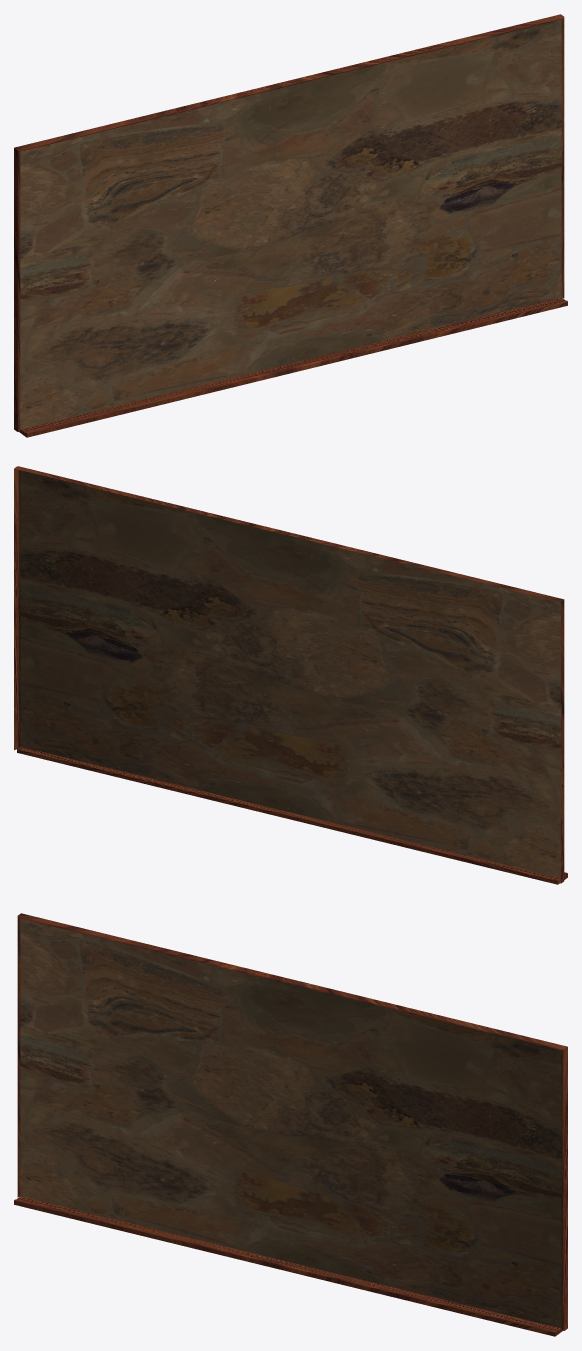
File: Blackboard.fbx
3 renders of one model, top to bottom at view 1: azimuth 30°, elevation 25°; view 2: azimuth 150°, elevation 25°; view 3: azimuth 330°, elevation 25°, orthographic.
Parts seen in each view (by area): view 1: Pizarron; view 2: Pizarron; view 3: Pizarron.
Part boxes in pixels (box(x1,y1,x2,y2)): Pizarron: box(14, 14, 567, 437); Pizarron: box(14, 466, 567, 884); Pizarron: box(14, 913, 567, 1336).
Bounding box in the file's own units: 307 × 152 × 9.72.
2 materials, 2 textured.
